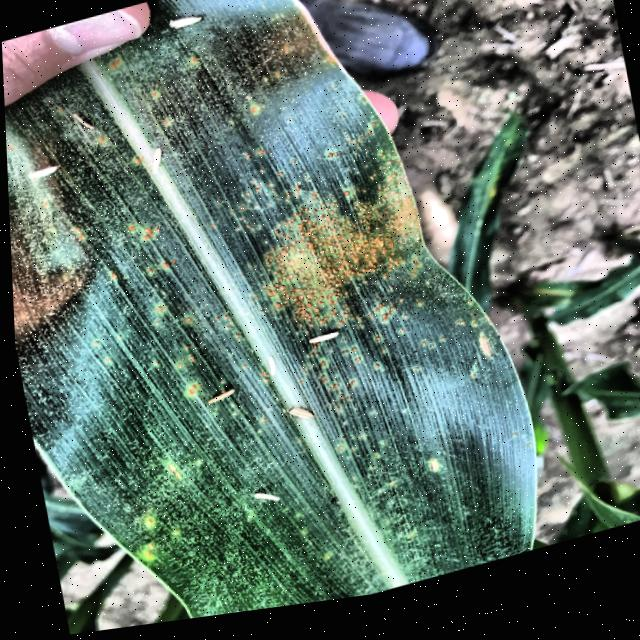common_rust: (5, 0, 545, 621)
